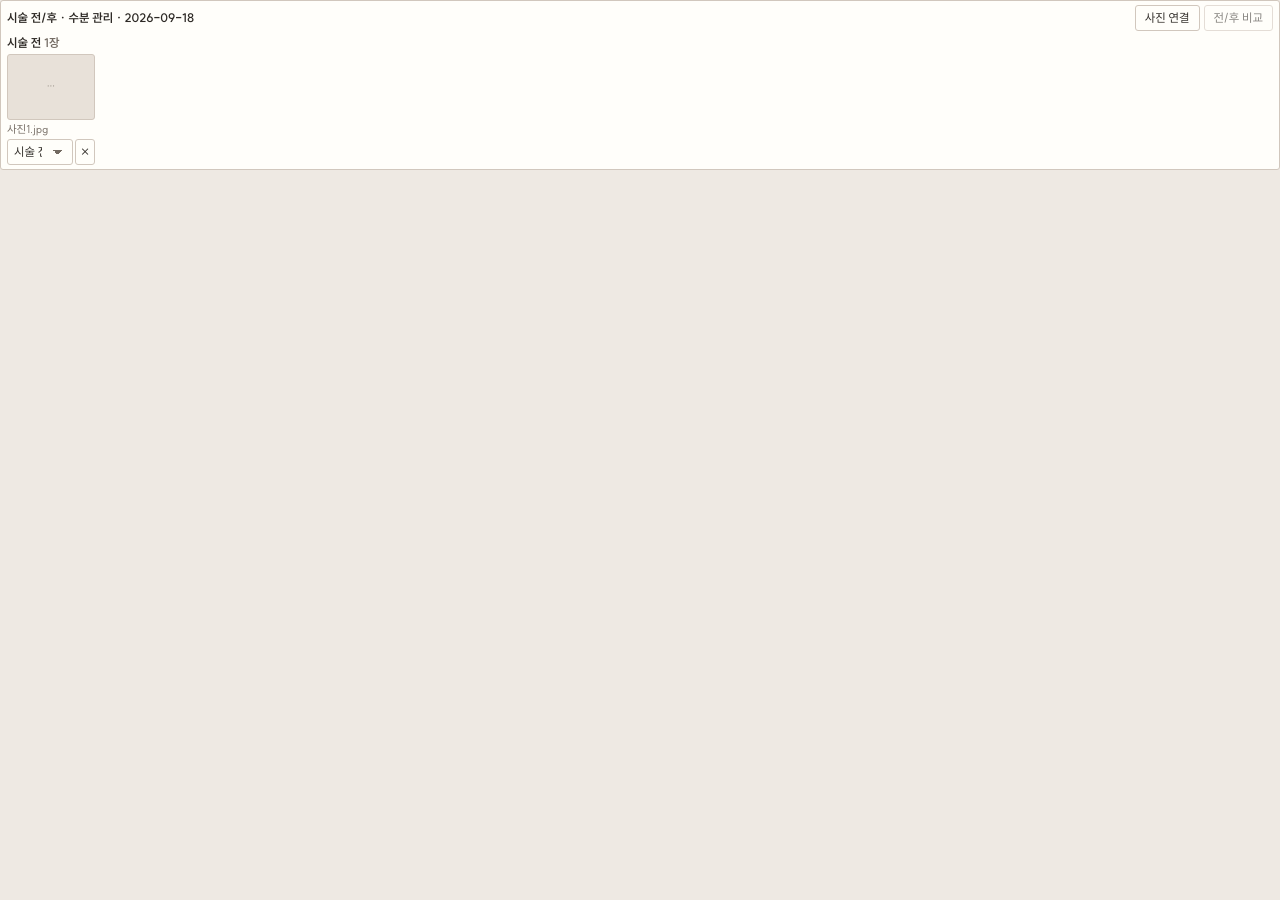
Test: TreatmentPhotoLinks · 연결·변경·해제 › 해제를 취소하면 아무것도 하지 않는다
Click the button named "사진1.jpg 연결 해제": (85, 152) [75,139,95,165]
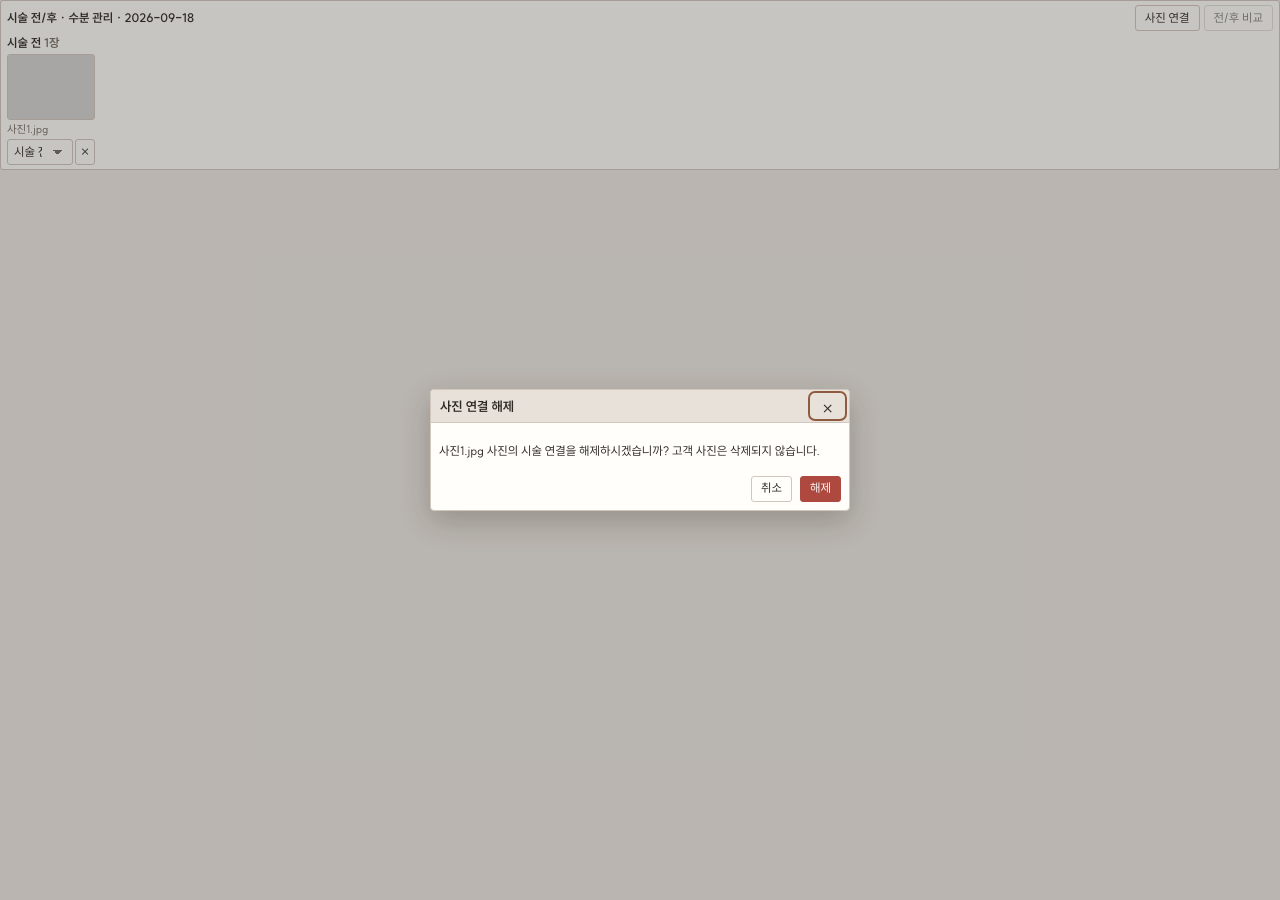
Click the button "취소": (772, 489) [751,476,792,502]
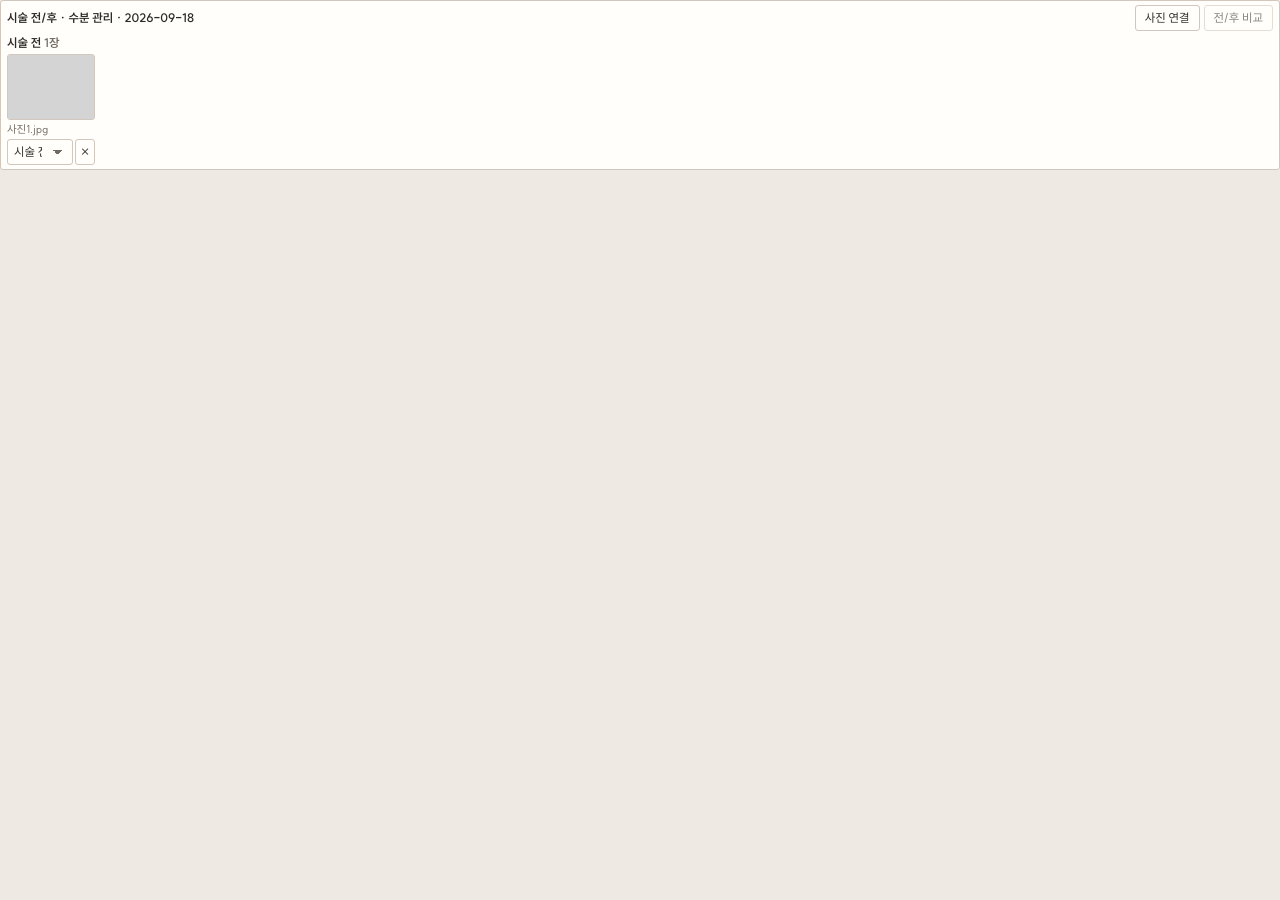
expect the dialog is gone: met
